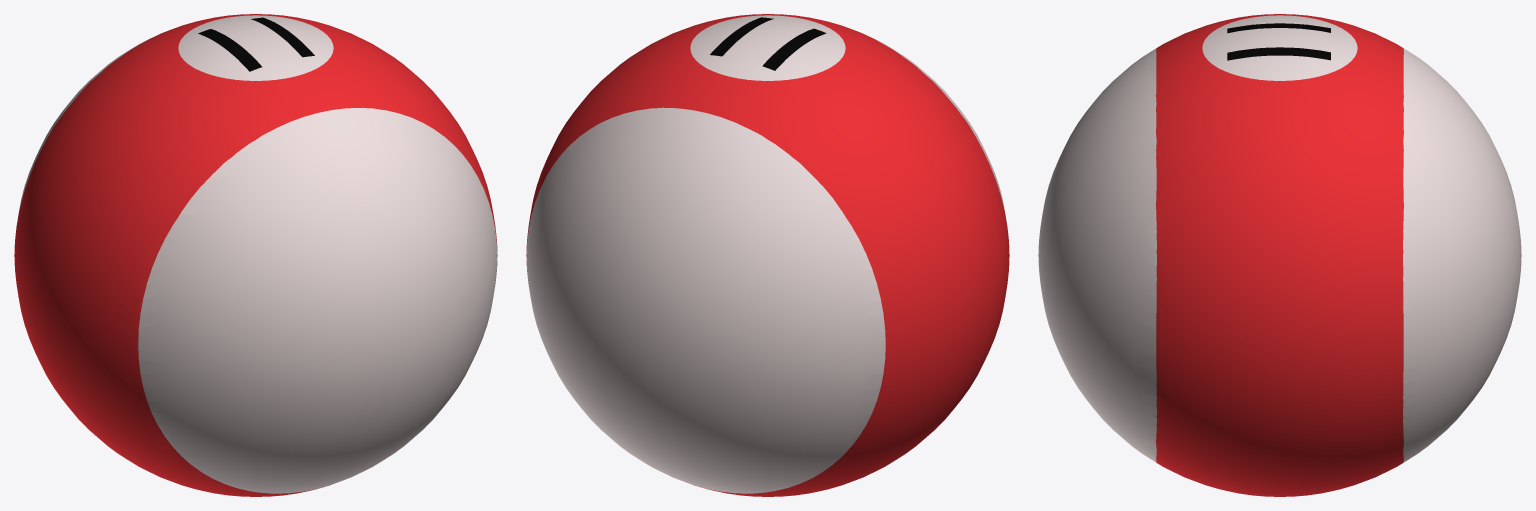
Rendered from elevenBall.glb.
3 renders of one model, left to right at view 1: azimuth 30°, elevation 25°; view 2: azimuth 150°, elevation 25°; view 3: azimuth 270°, elevation 25°, orthographic.
Parts seen in each view (by area): view 1: Sphere; view 2: Sphere; view 3: Sphere.
Boxes of the visible parts, x1=… form: Sphere: x1=14, y1=14, x2=497, y2=496; Sphere: x1=526, y1=14, x2=1009, y2=496; Sphere: x1=1038, y1=14, x2=1521, y2=496.
Size of the model in its own units: 0.127 by 0.127 by 0.127.
